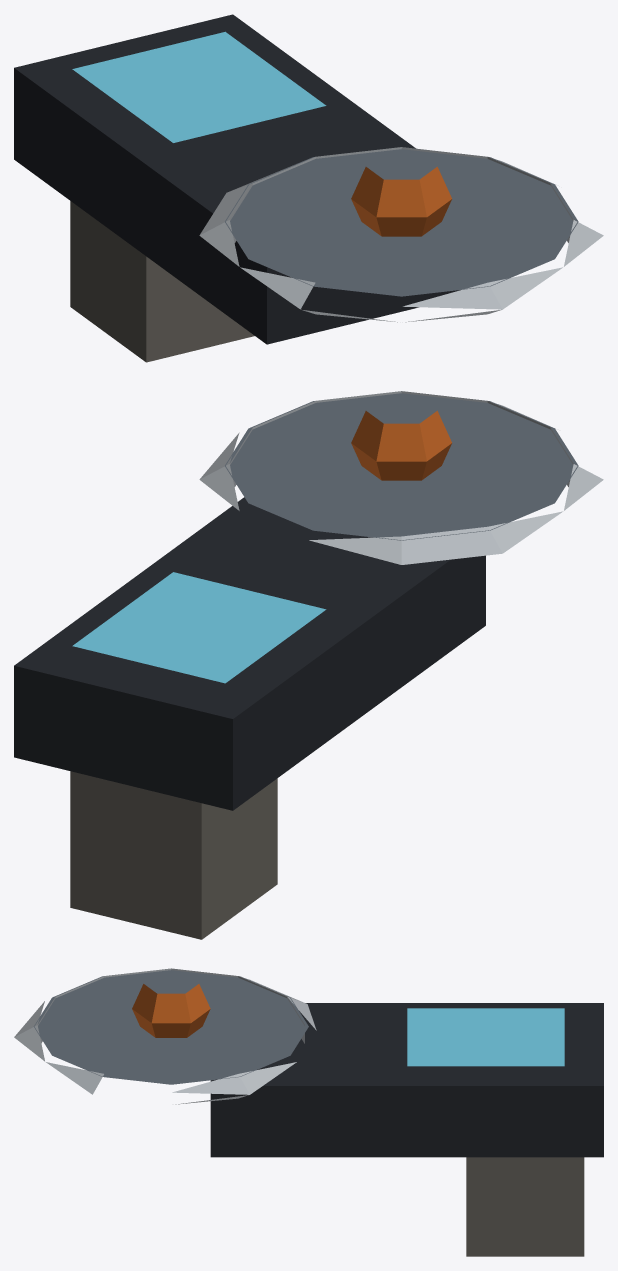
Rendered from holotrace-device.lod.glb.
3 views of the same model, one above another, from view 1: azimuth 30°, elevation 25°; view 2: azimuth 150°, elevation 25°; view 3: azimuth 270°, elevation 25° (orthographic). The views are drawn at different scales.
Visible parts, largest first — view 1: m; view 2: m; view 3: m.
Part boxes in pixels (bbox=[...]): m: bbox=[14, 14, 603, 362]; m: bbox=[14, 391, 603, 939]; m: bbox=[14, 968, 603, 1256].
Bounding box in the file's own units: 0.074 × 0.0696 × 0.15.
